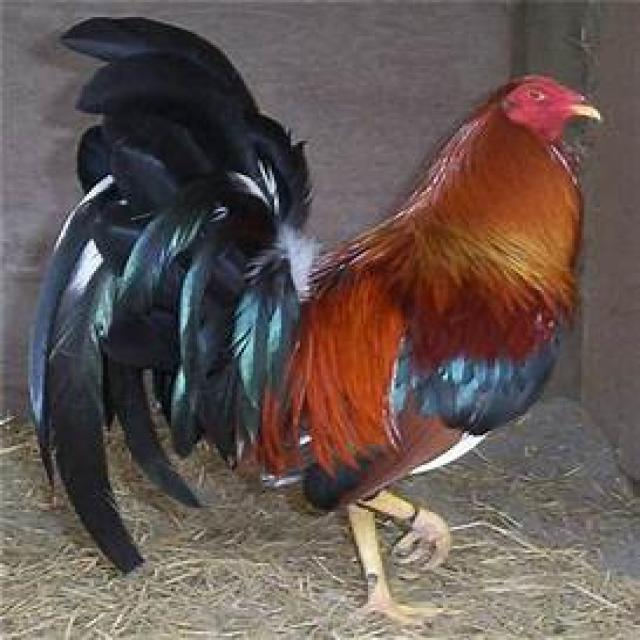hen: (38, 21, 600, 625)
